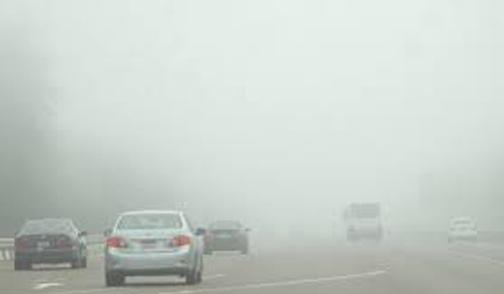bus: (339, 198, 386, 239)
car: (100, 208, 204, 287), (11, 217, 89, 269), (202, 218, 251, 254), (446, 214, 477, 243)
